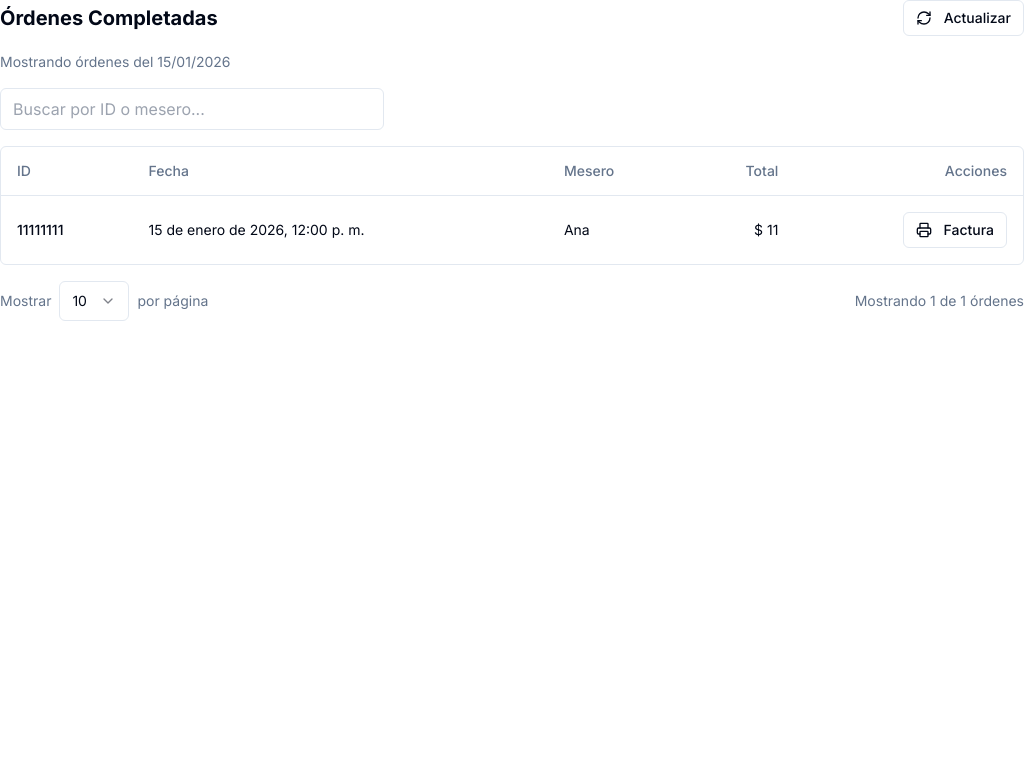
it: CompletedOrdersTable — one read per date, shared with every revisit › still reprints a delivery order as DOMICILIO (odd/tasks/domicilios.md S14)
Check: the text "11111111" is shown, box [1,195,132,264]
Click the button "Factura".
click(955, 230)  # box [902,212,1007,248]
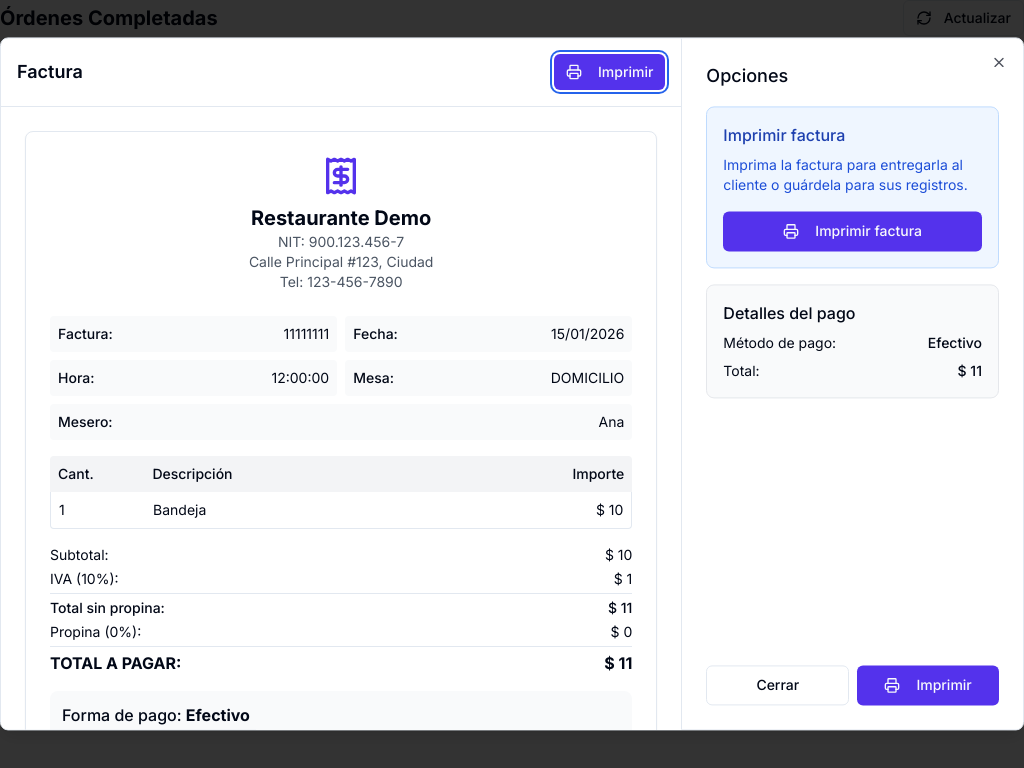
Check: the text "Mesa:" is shown, box [353,369,394,386]
Check: the text "DOMICILIO" is shown, box [551,368,624,388]
